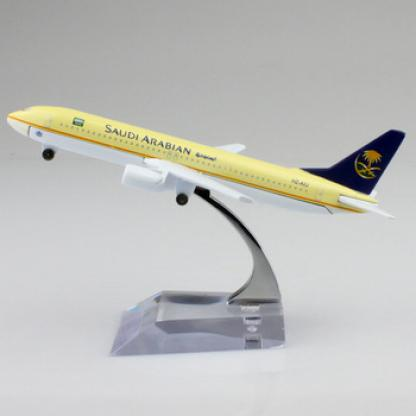CIV_Plane: (0, 99, 407, 223)
